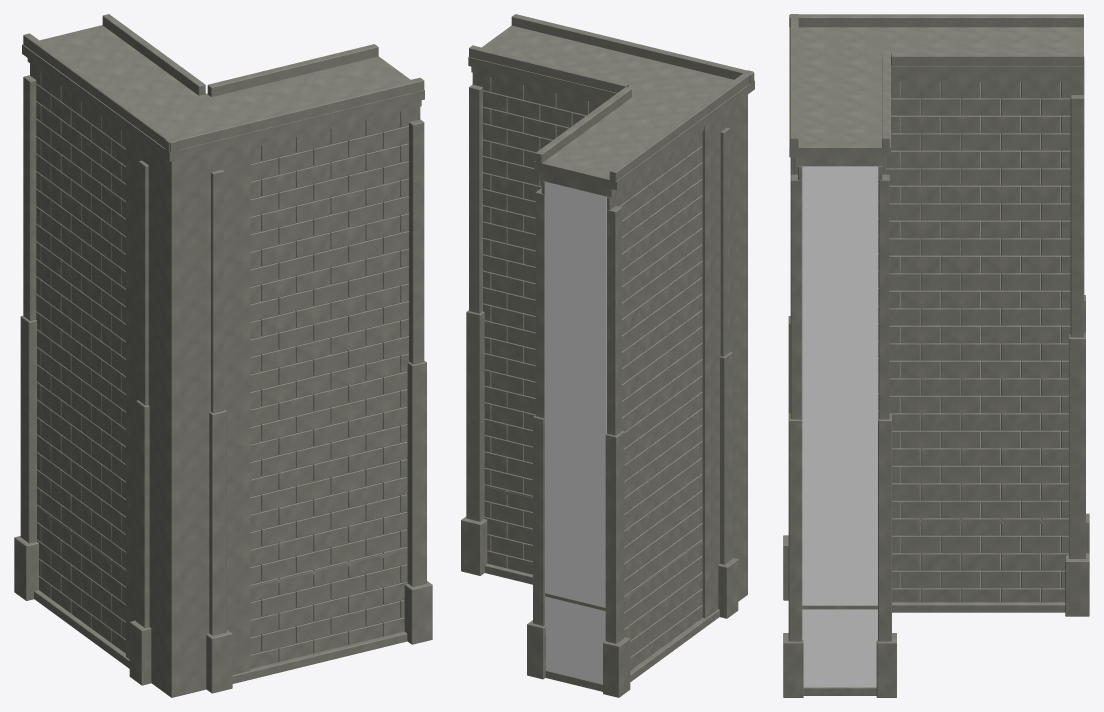
File: GF2_Wall_Corner_24x60.fbx
3 renders of one model, left to right at view 1: azimuth 30°, elevation 25°; view 2: azimuth 150°, elevation 25°; view 3: azimuth 270°, elevation 25°, orthographic. The views are drawn at different scales.
Parts seen in each view (by area): view 1: GF2_Wall_Corner_24x60.001; view 2: GF2_Wall_Corner_24x60.001; view 3: GF2_Wall_Corner_24x60.001.
Boxes of the visible parts, box(x1,y1,x2,y2) form: GF2_Wall_Corner_24x60.001: box(14, 14, 432, 697); GF2_Wall_Corner_24x60.001: box(461, 14, 754, 697); GF2_Wall_Corner_24x60.001: box(783, 14, 1089, 697).
Bounding box in the file's own units: 30.15 × 60.55 × 30.15.
2 materials, 1 textured.
